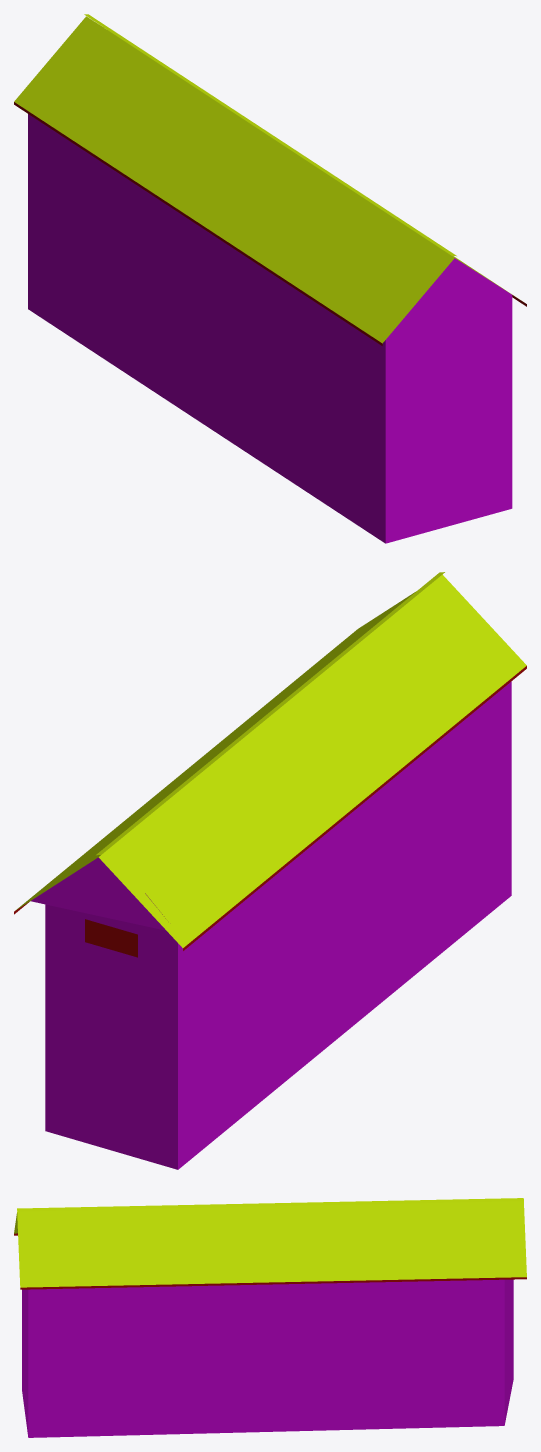
The model's file is bgj_216.glb.
3 views of the same model, one above another, from view 1: azimuth 30°, elevation 25°; view 2: azimuth 150°, elevation 25°; view 3: azimuth 270°, elevation 25° (orthographic). The views are drawn at different scales.
Visible parts, largest first — view 1: bgj_216; view 2: bgj_216; view 3: bgj_216.
Part boxes in pixels (<box>): bgj_216: <box>14,14,526,543</box>; bgj_216: <box>14,572,526,1169</box>; bgj_216: <box>14,1198,526,1437</box>.
Size of the model in its own units: 8.01 by 11.85 by 26.89.
